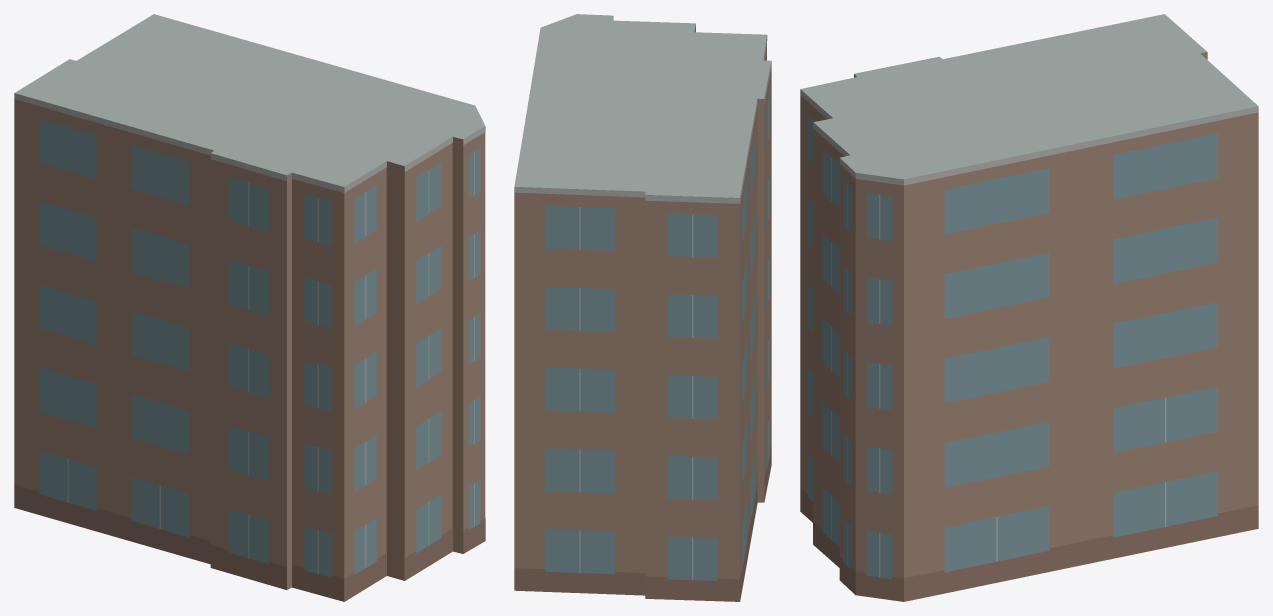
Rendered from survey-upis-32912811.glb.
3 views of the same model, side by side, from view 1: azimuth 30°, elevation 25°; view 2: azimuth 150°, elevation 25°; view 3: azimuth 270°, elevation 25° (orthographic). The views are drawn at different scales.
Parts seen in each view (by area): view 1: survey-upis-32912811.tmp; view 2: survey-upis-32912811.tmp; view 3: survey-upis-32912811.tmp.
Boxes of the visible parts, x1=… form: survey-upis-32912811.tmp: x1=14, y1=14, x2=485, y2=601; survey-upis-32912811.tmp: x1=514, y1=14, x2=771, y2=601; survey-upis-32912811.tmp: x1=800, y1=14, x2=1258, y2=601.
Bounding box in the file's own units: 14.2 × 16.9 × 16.63.
